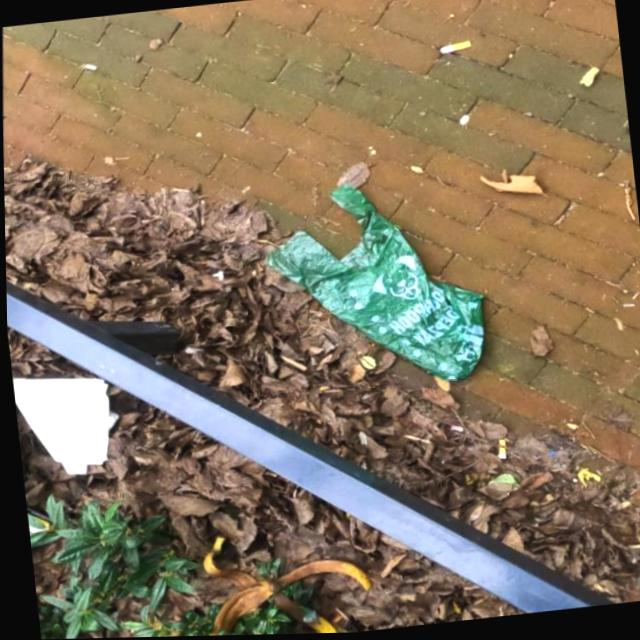Paper: (10, 365, 122, 484), (24, 502, 59, 571)
